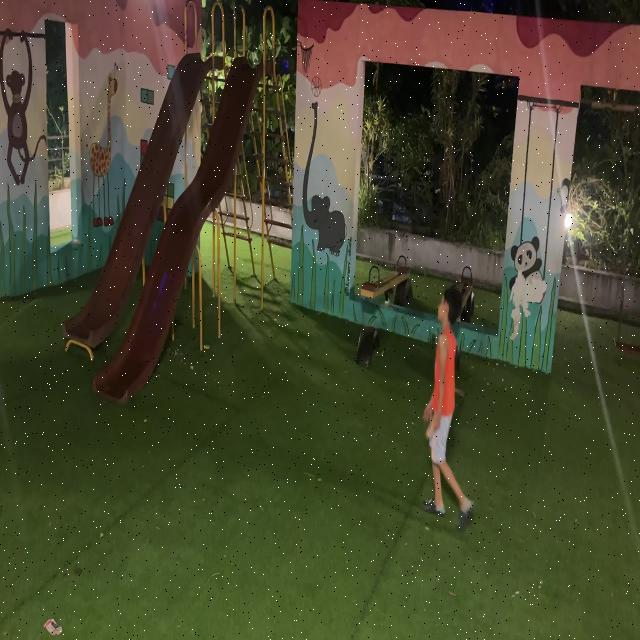garbage_dumping: (424, 408, 444, 446)
